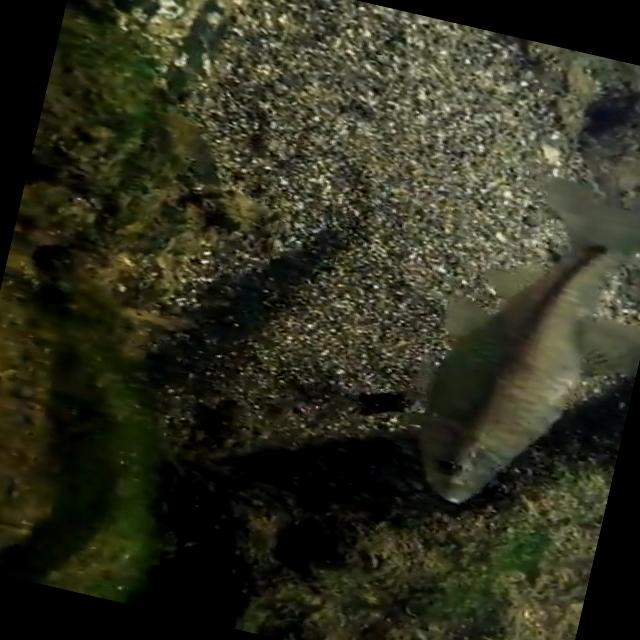Cakil Baligi: (390, 148, 640, 537)
